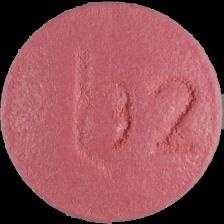0555-9020: (0, 0, 224, 224)
